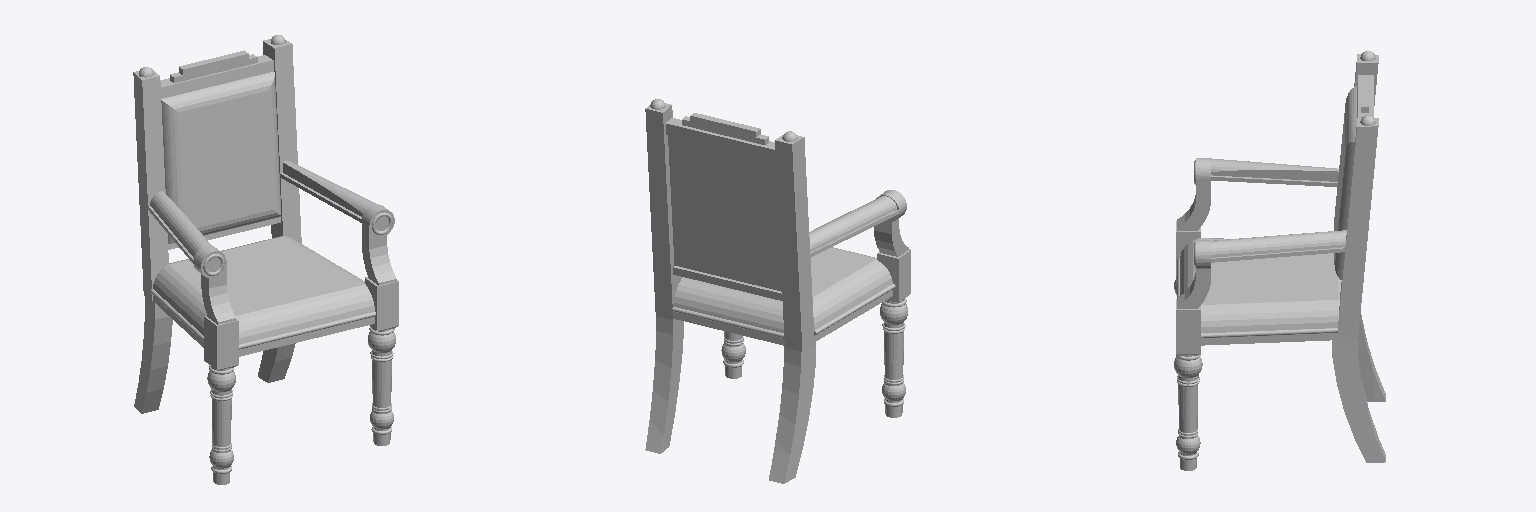
The model's file is chair.obj.
3 renders of one model, left to right at view 1: azimuth 30°, elevation 25°; view 2: azimuth 150°, elevation 25°; view 3: azimuth 270°, elevation 25°, orthographic.
Parts seen in each view (by area): view 1: VicSideChair; view 2: VicSideChair; view 3: VicSideChair.
Boxes of the visible parts, x1=… form: VicSideChair: x1=133, y1=35, x2=398, y2=484; VicSideChair: x1=645, y1=99, x2=910, y2=483; VicSideChair: x1=1174, y1=51, x2=1385, y2=470.
Size of the model in its own units: 26.42 by 44.89 by 25.05.